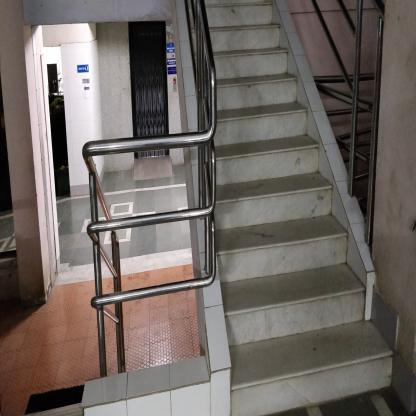stairs: (225, 170, 342, 413)
